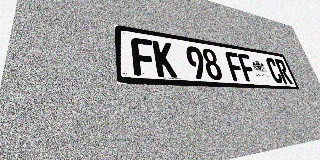8: (201, 48, 224, 80)
9: (185, 45, 208, 79)
C: (265, 57, 284, 83)
F: (131, 37, 157, 77), (224, 51, 246, 81), (237, 53, 258, 82)
K: (152, 40, 177, 78)
R: (274, 59, 293, 84)
